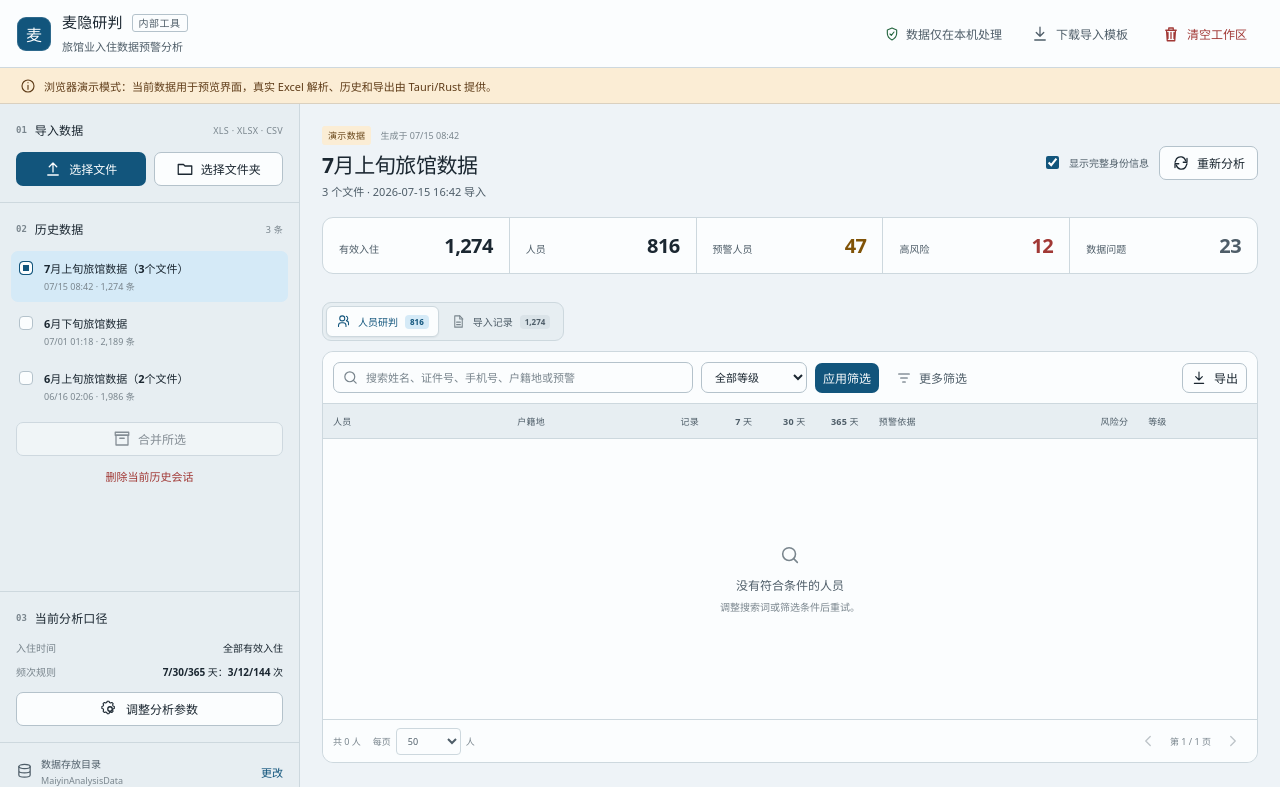
it: App › applies fuzzy multi-value region filters to browser imported records
Check: the heading "7月上旬旅馆数据" is shown, box [322,152,486,178]
Click the tab "导入记录 1,274". click: (500, 322)
box: [441,306,560,337]
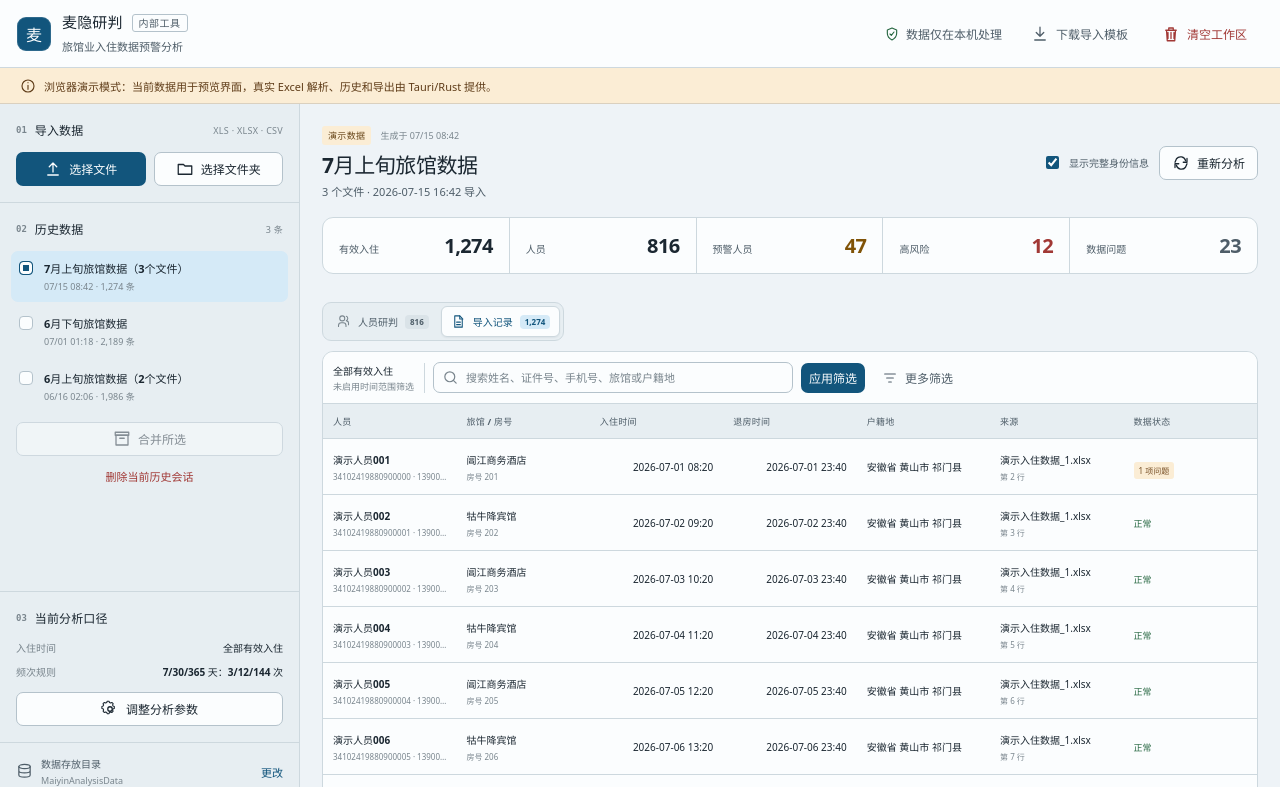
Check: the text "演示人员001" is shown, box [333,453,390,467]
Click the button "更多筛选". click: (918, 378)
box: [873,363,962,393]
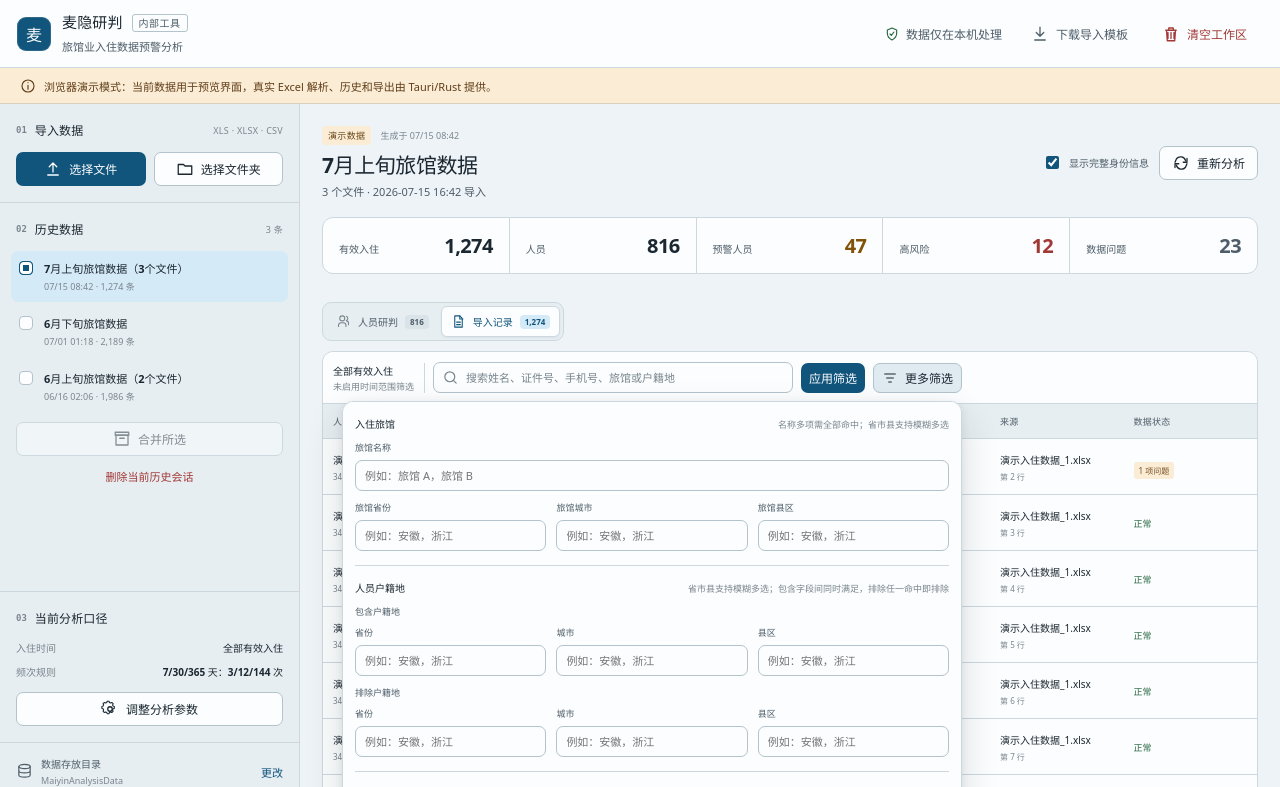
Type "浙江，徽 省" into the field labelled "旅馆省份". click: (451, 535)
box: [355,520,546,551]
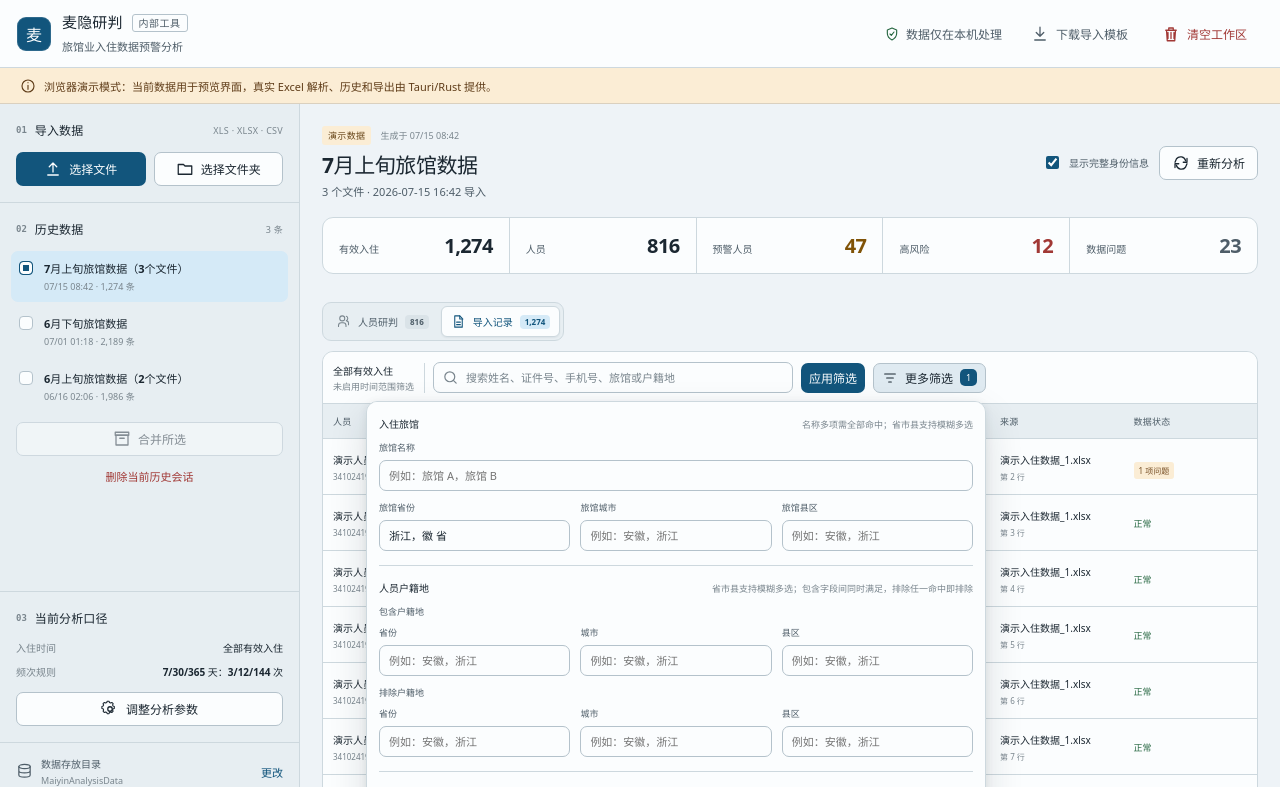
Type "西湖；门 县" into the field labelled "旅馆县区". click: (877, 535)
box: [782,520,973,551]
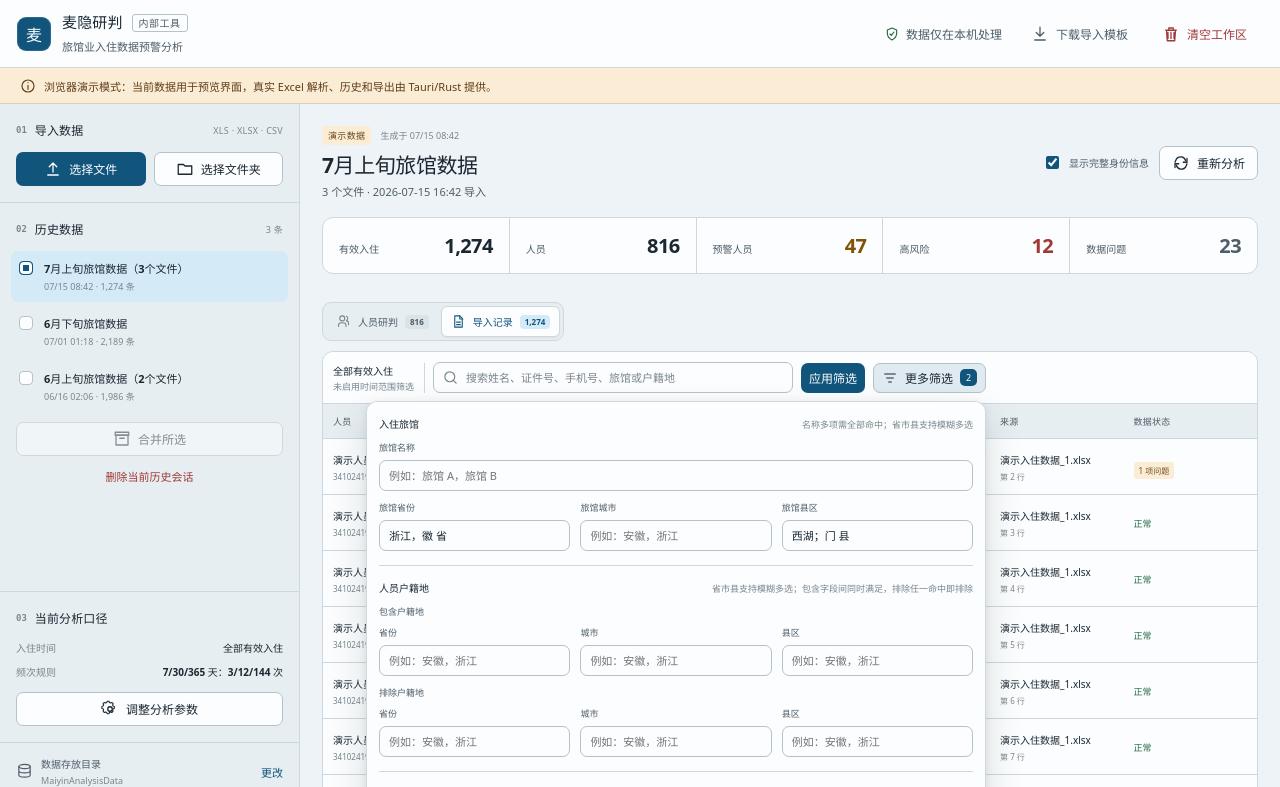
Click the button "应用筛选". click: (833, 378)
box: [801,363,865,393]
(page scrolled)
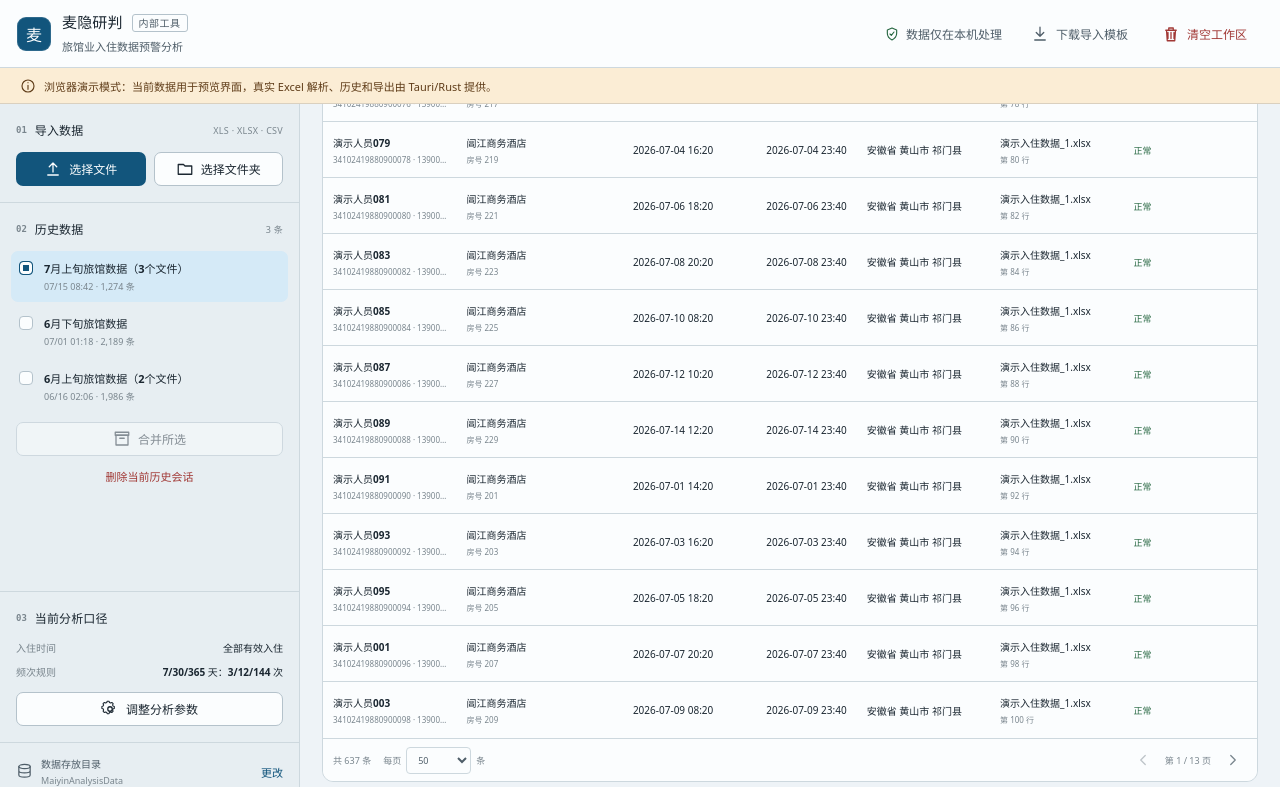
Check: the text "共 637 条" is shown, box [333,754,371,767]
Check: the text "第 1 / 13 页" is shown, box [1165,754,1211,767]
